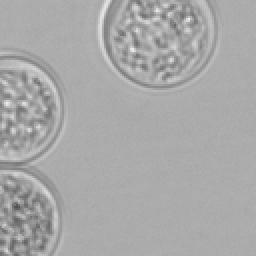picoshell: (96, 0, 218, 92), (0, 46, 64, 162), (0, 166, 64, 254)
